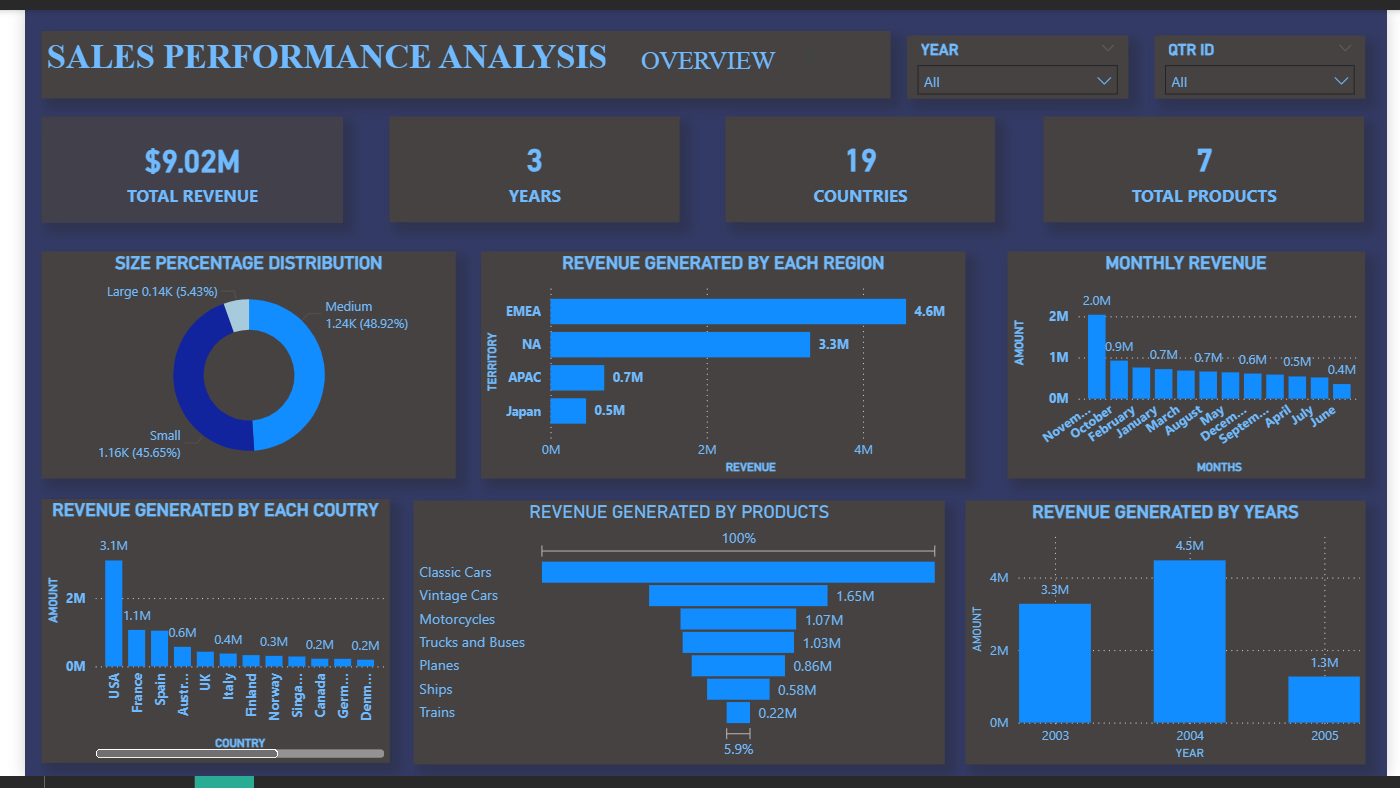

Layout of this report page (visuals, bound fields, positions):
{"tool":"powerbi","page":{"name":"OVERVIEW","canvas":[1280,720],"ordinal":0},"visuals":[{"type":"card","fields":{"Values":["Sum(Sales Data.SALES)"]},"box":[15.1,99.9,283.2,99.9],"z":0},{"type":"card","fields":{"Values":["Count(Sales Data.YEAR)"]},"box":[342.7,100.5,272.5,99.1],"z":1000},{"type":"card","fields":{"Values":["Count(Sales Data.COUNTRY)"]},"box":[657.9,100.5,253.2,99.1],"z":2000},{"type":"card","fields":{"Values":["Count(Sales Data.PRODUCT)"]},"box":[957.9,100.5,301.4,99.1],"z":3000},{"type":"columnChart","title":"REVENUE GENERATED BY YEARS","fields":{"Category":["Sales Data.YEAR"],"Y":["Sum(Sales Data.SALES)"]},"box":[883.6,461.1,375.7,247.7],"z":4000},{"type":"columnChart","title":"REVENUE GENERATED BY EACH COUTRY","fields":{"Category":["Sales Data.COUNTRY"],"Y":["Sum(Sales Data.SALES)"]},"box":[15.1,460.3,327.1,248.3],"z":5000},{"type":"clusteredBarChart","title":"REVENUE GENERATED BY EACH REGION","fields":{"Category":["Sales Data.TERRITORY"],"Y":["Sum(Sales Data.SALES)"]},"box":[428,227.1,455.6,213.3],"z":6000},{"type":"funnel","title":"REVENUE GENERATED BY PRODUCTS","fields":{"Category":["Sales Data.PRODUCT"],"Y":["Sum(Sales Data.SALES)"]},"box":[364.7,461.1,499.6,247.7],"z":7000},{"type":"donutChart","title":"SIZE PERCENTAGE DISTRIBUTION","fields":{"Category":["Sales Data.DEAL SIZE"],"Y":["CountNonNull(Sales Data.DEAL SIZE)"]},"box":[15.1,227.1,389.5,213.3],"z":8000},{"type":"slicer","fields":{"Values":["Sales Data.YEAR"]},"box":[828.6,23.4,207.8,59.2],"z":10000},{"type":"slicer","fields":{"Values":["Sales Data.QTR ID"]},"box":[1061.2,23.4,198.2,59.2],"z":11000},{"type":"textbox","box":[15.1,19.3,798.3,63.3],"z":12000},{"type":"textbox","box":[545,28.9,200.9,33],"z":13000},{"type":"clusteredColumnChart","title":"MONTHLY REVENUE","fields":{"Category":["Sales Data.MONTH"],"Y":["Sum(Sales Data.SALES)"]},"box":[923.5,227.1,335.8,213.3],"z":14000}]}

Visuals, with their boxes in screenshot pixels (x1, y1, x2, y2), scaled from the page's 1280x720 canvas onto the 1400x788 screenshot:
card - Sum(Sales Data.SALES): [x1=17, y1=109, x2=326, y2=219]
card - Count(Sales Data.YEAR): [x1=375, y1=110, x2=673, y2=218]
card - Count(Sales Data.COUNTRY): [x1=720, y1=110, x2=997, y2=218]
card - Count(Sales Data.PRODUCT): [x1=1048, y1=110, x2=1377, y2=218]
"REVENUE GENERATED BY YEARS" columnChart: [x1=966, y1=505, x2=1377, y2=776]
"REVENUE GENERATED BY EACH COUTRY" columnChart: [x1=17, y1=504, x2=374, y2=776]
"REVENUE GENERATED BY EACH REGION" clusteredBarChart: [x1=468, y1=249, x2=966, y2=482]
"REVENUE GENERATED BY PRODUCTS" funnel: [x1=399, y1=505, x2=945, y2=776]
"SIZE PERCENTAGE DISTRIBUTION" donutChart: [x1=17, y1=249, x2=443, y2=482]
slicer - Sales Data.YEAR: [x1=906, y1=26, x2=1134, y2=90]
slicer - Sales Data.QTR ID: [x1=1161, y1=26, x2=1377, y2=90]
textbox: [x1=17, y1=21, x2=890, y2=90]
textbox: [x1=596, y1=32, x2=816, y2=68]
"MONTHLY REVENUE" clusteredColumnChart: [x1=1010, y1=249, x2=1377, y2=482]
